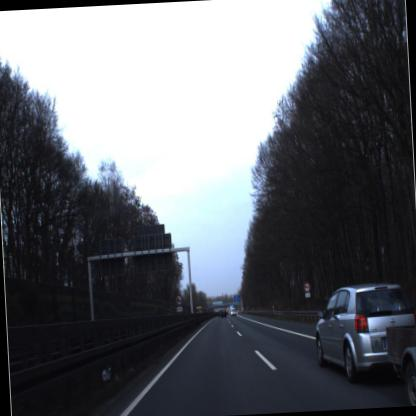prohibitory: (174, 292, 184, 308), (301, 281, 311, 293)
